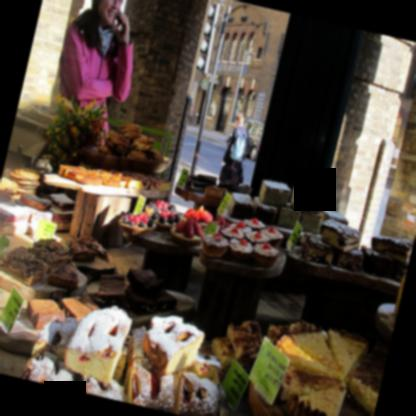backpack: (229, 127, 246, 163)
